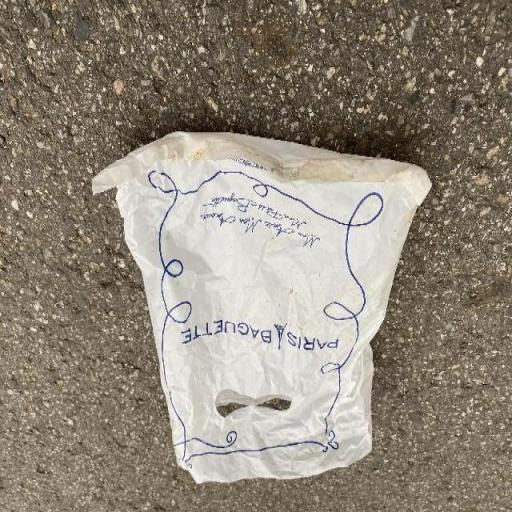plastic-bag: (86, 128, 436, 488)
